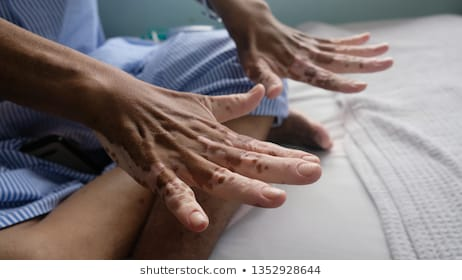Diseased: (90, 68, 313, 219)
